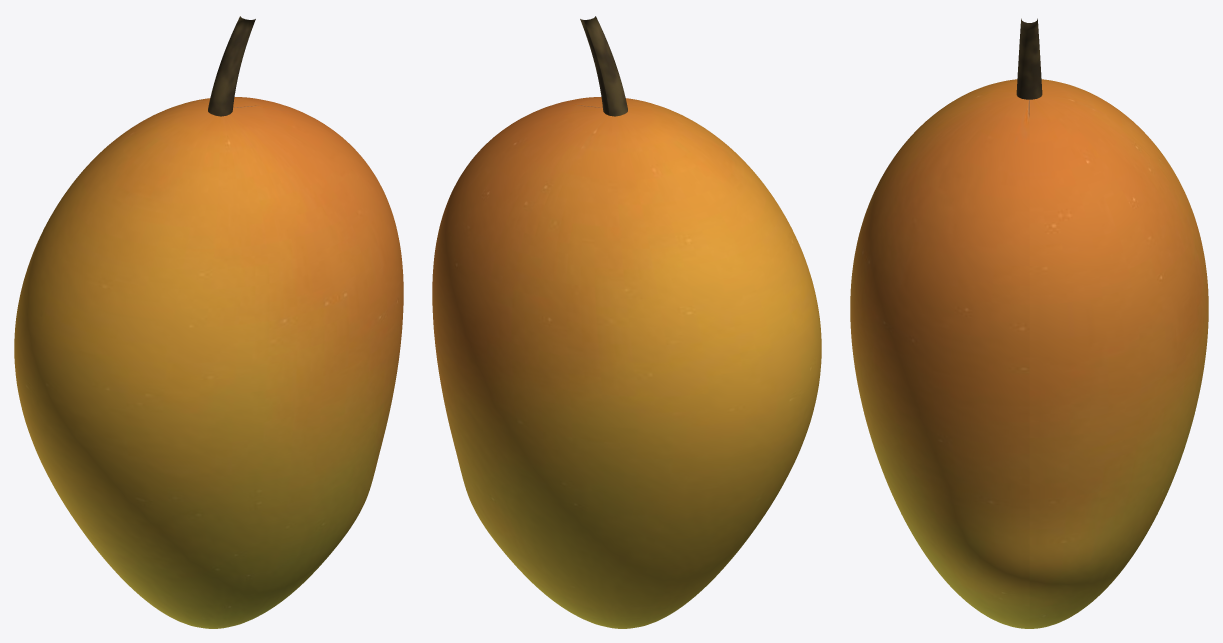
File: mangue-auguste.glb
3 views of the same model, side by side, from view 1: azimuth 30°, elevation 25°; view 2: azimuth 150°, elevation 25°; view 3: azimuth 270°, elevation 25° (orthographic). The views are drawn at different scales.
Parts seen in each view (by area): view 1: entier_peau, moitie_A_peau, moitie_B_peau, entier_extra0; view 2: entier_peau, moitie_B_peau, moitie_A_peau, entier_extra0; view 3: entier_peau, moitie_A_peau, moitie_B_peau, entier_extra0.
Part boxes in pixels (x1=…): entier_peau: x1=14, y1=97, x2=403, y2=628; moitie_A_peau: x1=37, y1=107, x2=403, y2=628; moitie_B_peau: x1=14, y1=97, x2=314, y2=596; entier_extra0: x1=208, y1=16, x2=255, y2=116; entier_peau: x1=432, y1=97, x2=821, y2=628; moitie_B_peau: x1=432, y1=107, x2=798, y2=628; moitie_A_peau: x1=521, y1=97, x2=821, y2=596; entier_extra0: x1=580, y1=16, x2=627, y2=116; entier_peau: x1=850, y1=79, x2=1208, y2=628; moitie_A_peau: x1=850, y1=79, x2=1027, y2=628; moitie_B_peau: x1=1031, y1=79, x2=1208, y2=628; entier_extra0: x1=1016, y1=18, x2=1042, y2=99.
Size of the model in its own units: 0.0899 by 0.1478 by 0.0774.
Materials: 3 (3 with a texture image).
